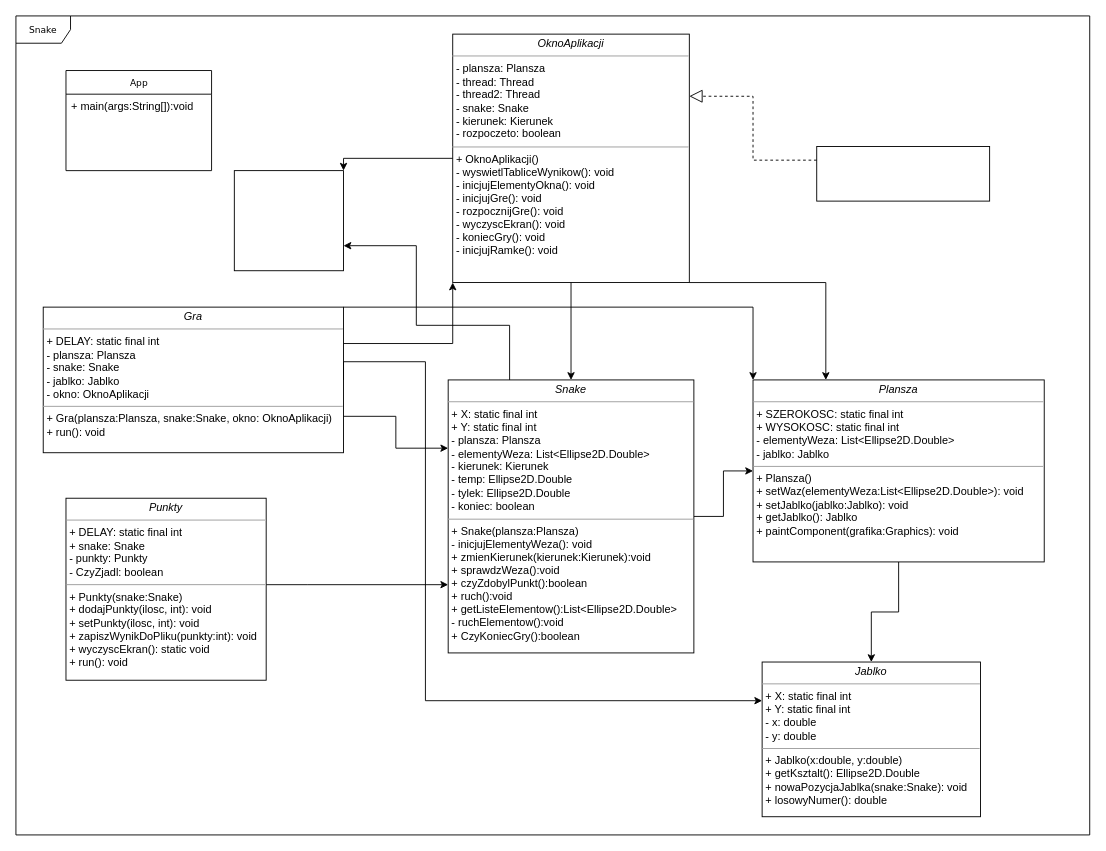
Some shapes in this 1106 by 851 pixel diagram are drawn without their labels. The centre of each missing label's shape, as x and y in pixels:
<<enumeration>> Kierunek GORA DOL LEWO PRAWO: [288,220]
ObslugaKlawiatury + keyPressed(e:KeyEvent): void: [903,173]
